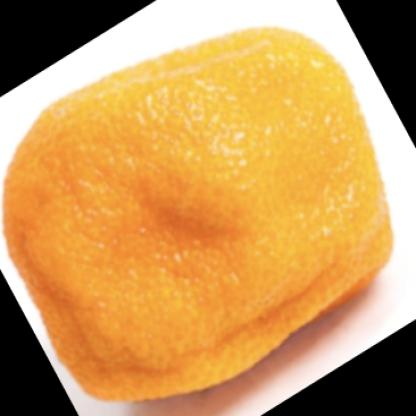rotten: (6, 25, 390, 399)
